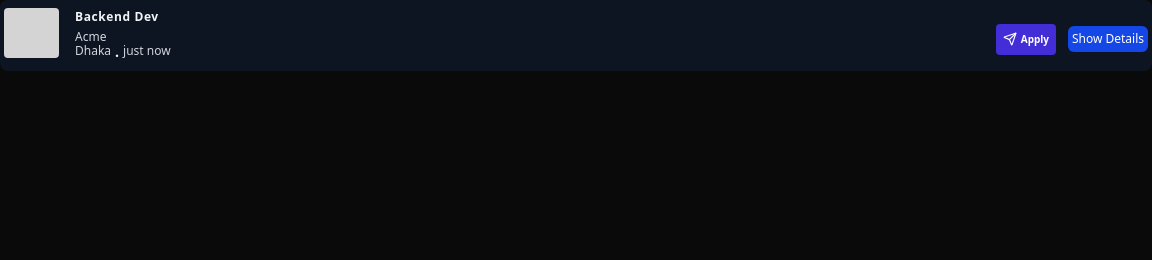
Test: suggested JobCard › loads job + org and renders details
Expected: the button "Backend Dev" is shown, [75, 8, 159, 26]
Expected: the text "Acme" is shown, [75, 28, 106, 46]
Click the button "Show Details". click: (1108, 39)
box: [1068, 26, 1148, 52]
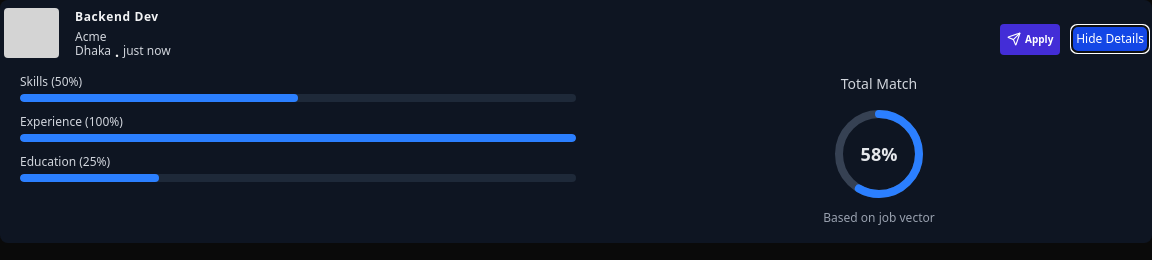
Expected: the text "Skills (50%)" is shown, [20, 73, 82, 90]
Expected: the text "58%" is shown, [861, 140, 897, 168]
Click the button "Hide Details". click: (1110, 39)
box: [1072, 26, 1148, 52]
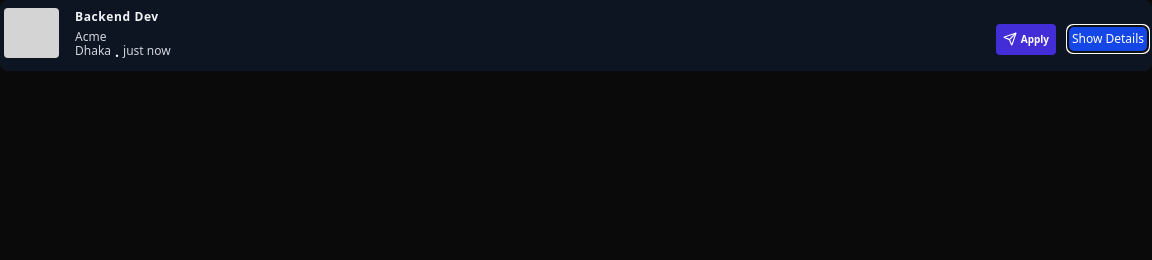
Expected: the text "Total Match" is gone
